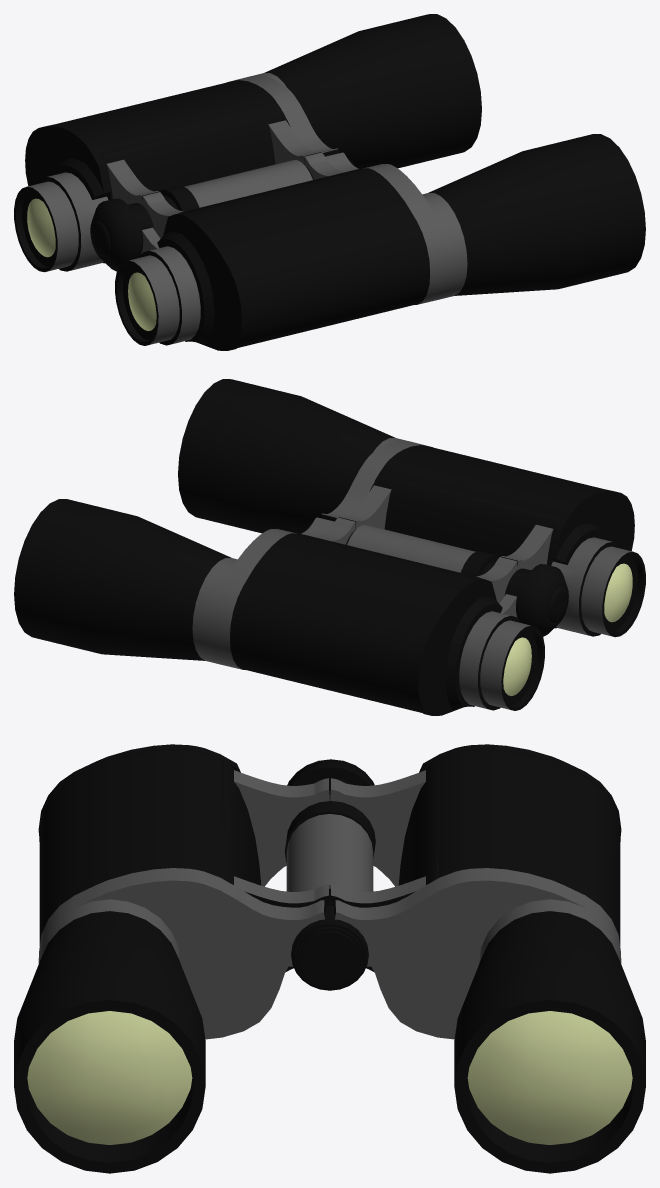
Rendered from BINOCULARS.fbx.
3 views of the same model, one above another, from view 1: azimuth 30°, elevation 25°; view 2: azimuth 150°, elevation 25°; view 3: azimuth 270°, elevation 25° (orthographic). The views are drawn at different scales.
Visible parts, largest first — view 1: defaultMaterial; view 2: defaultMaterial; view 3: defaultMaterial.
Boxes of the visible parts, x1,y1,x2,y2 form: defaultMaterial: (14,14,645,350); defaultMaterial: (14,379,645,715); defaultMaterial: (14,744,645,1173).
Bounding box in the file's own units: 156 × 43.65 × 144.
